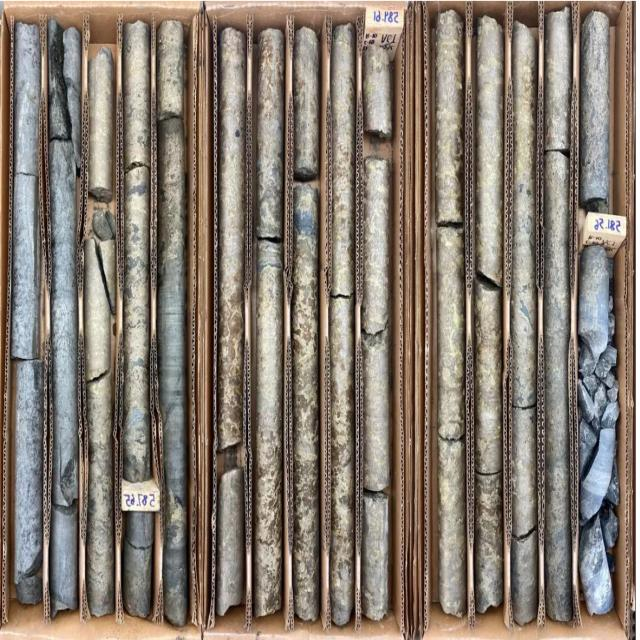mechanical crack: (46, 21, 80, 136), (82, 176, 115, 254), (53, 451, 79, 536), (360, 119, 393, 177), (217, 431, 246, 487), (365, 468, 389, 518), (293, 160, 319, 201), (473, 266, 504, 297), (582, 187, 610, 221)
natural crack: (122, 524, 160, 562), (539, 132, 575, 166), (432, 208, 470, 237), (122, 150, 155, 180), (254, 225, 285, 254), (506, 396, 540, 422), (471, 459, 507, 478), (328, 283, 354, 308), (14, 164, 41, 186)
